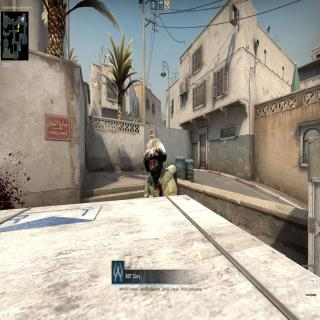CT-Head: (141, 138, 169, 179)
